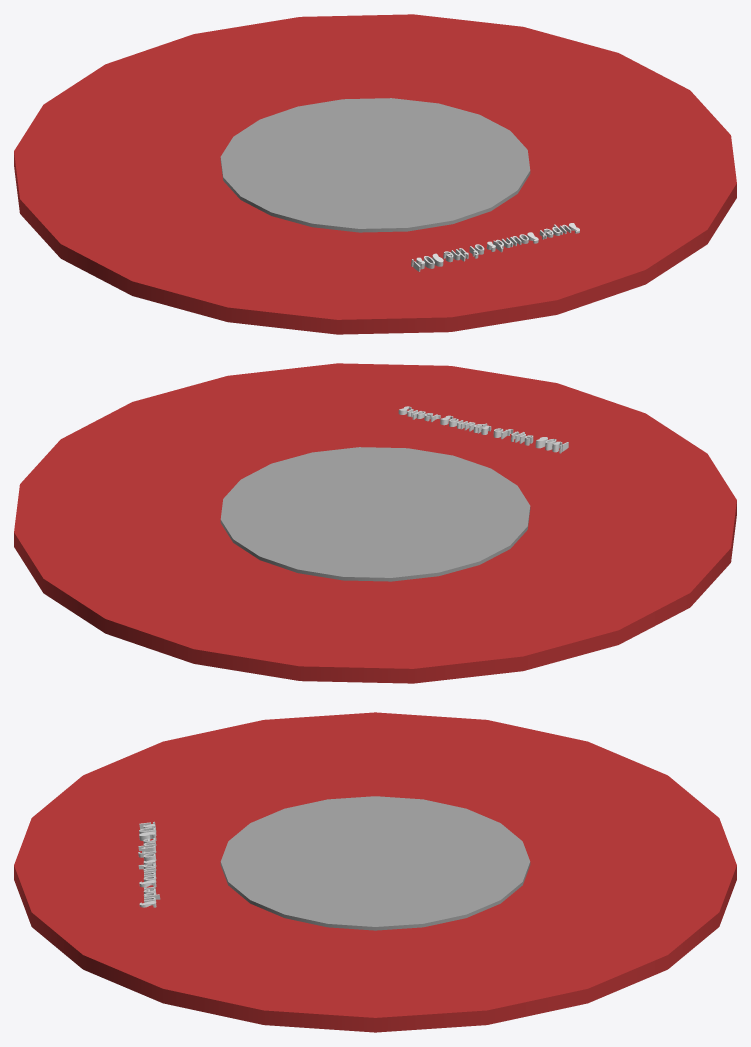
File: Record.fbx
3 renders of one model, top to bottom at view 1: azimuth 30°, elevation 25°; view 2: azimuth 150°, elevation 25°; view 3: azimuth 270°, elevation 25°, orthographic.
Parts seen in each view (by area): view 1: pCylinder3, pCylinder2, typeMesh1; view 2: pCylinder3, pCylinder2, typeMesh1; view 3: pCylinder3, pCylinder2, typeMesh1.
Part boxes in pixels (x1=…): pCylinder3: x1=14, y1=14, x2=736, y2=334; pCylinder2: x1=220, y1=98, x2=530, y2=232; typeMesh1: x1=411, y1=223, x2=579, y2=271; pCylinder3: x1=14, y1=363, x2=736, y2=683; pCylinder2: x1=220, y1=447, x2=530, y2=581; typeMesh1: x1=398, y1=406, x2=568, y2=453; pCylinder3: x1=14, y1=712, x2=736, y2=1032; pCylinder2: x1=220, y1=796, x2=530, y2=930; typeMesh1: x1=138, y1=821, x2=160, y2=907.
Size of what is drawn, in the model's own units: 0.9153 by 0.0305 by 0.9153.
